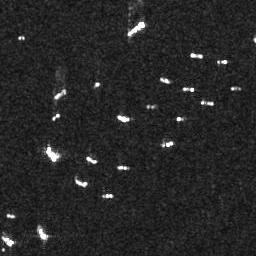ship: (126, 21, 147, 39), (44, 147, 59, 165), (54, 89, 67, 101), (38, 226, 49, 240), (1, 235, 15, 246), (116, 114, 131, 124), (76, 178, 88, 190), (189, 50, 203, 60), (85, 155, 97, 166), (182, 85, 195, 94), (116, 164, 130, 172), (201, 99, 214, 107), (163, 139, 175, 147), (160, 76, 171, 84), (215, 59, 229, 65), (103, 191, 113, 199), (7, 212, 16, 220), (52, 112, 60, 121), (230, 85, 242, 91), (176, 115, 184, 123), (17, 34, 26, 41), (94, 81, 101, 88)
